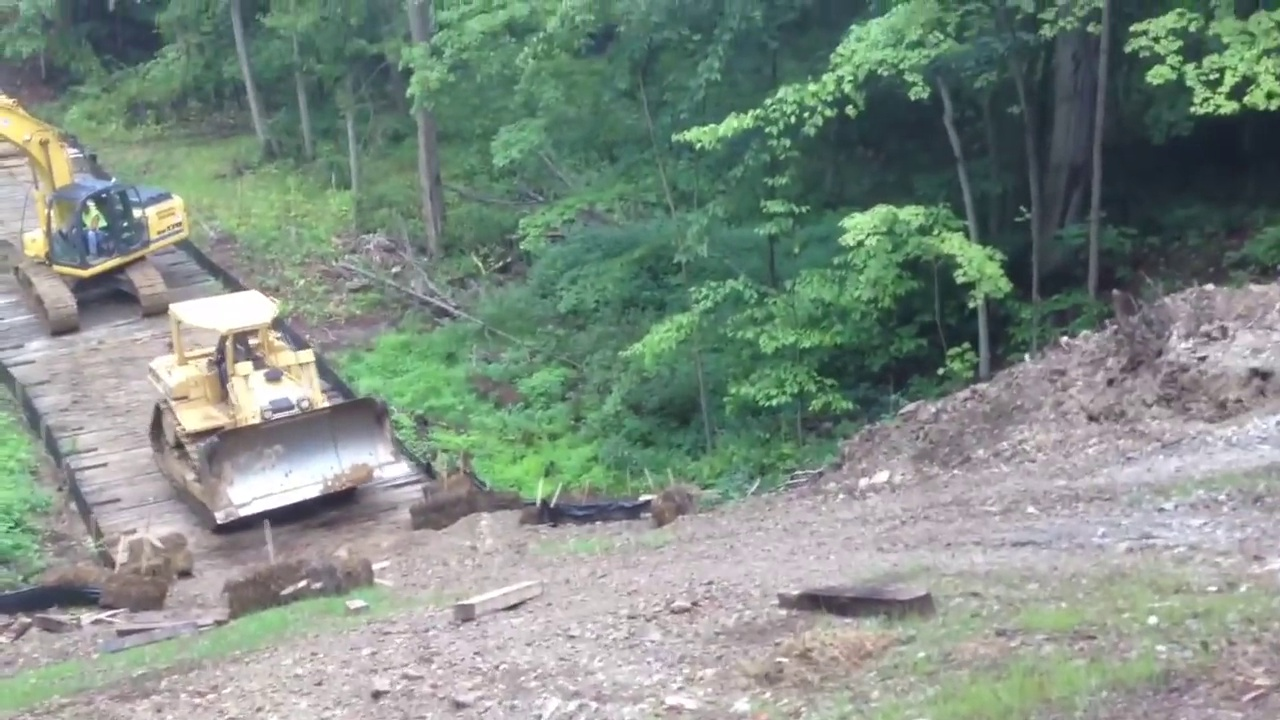bulldozer: (147, 287, 406, 526)
excavator: (1, 96, 186, 333)
